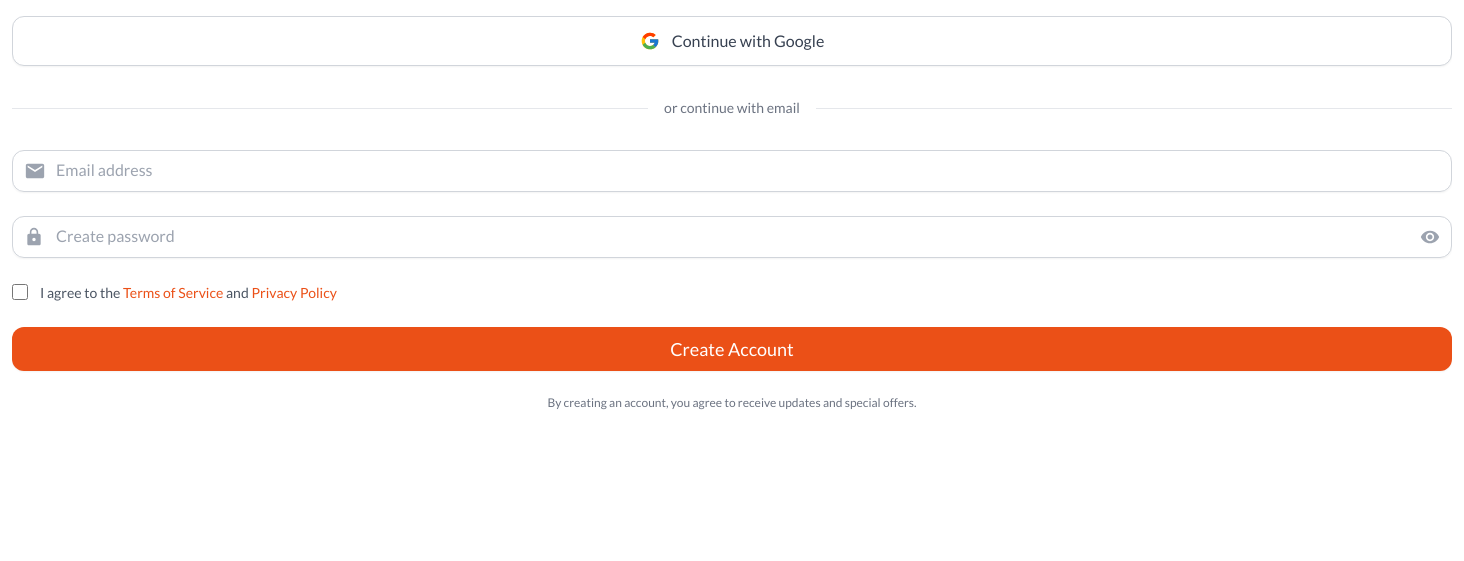
Test: RegisterForm › shows password feedback messages on typing
Type "short" into the password field labelled "Create password" at (732, 237), box [12,216,1452,258]
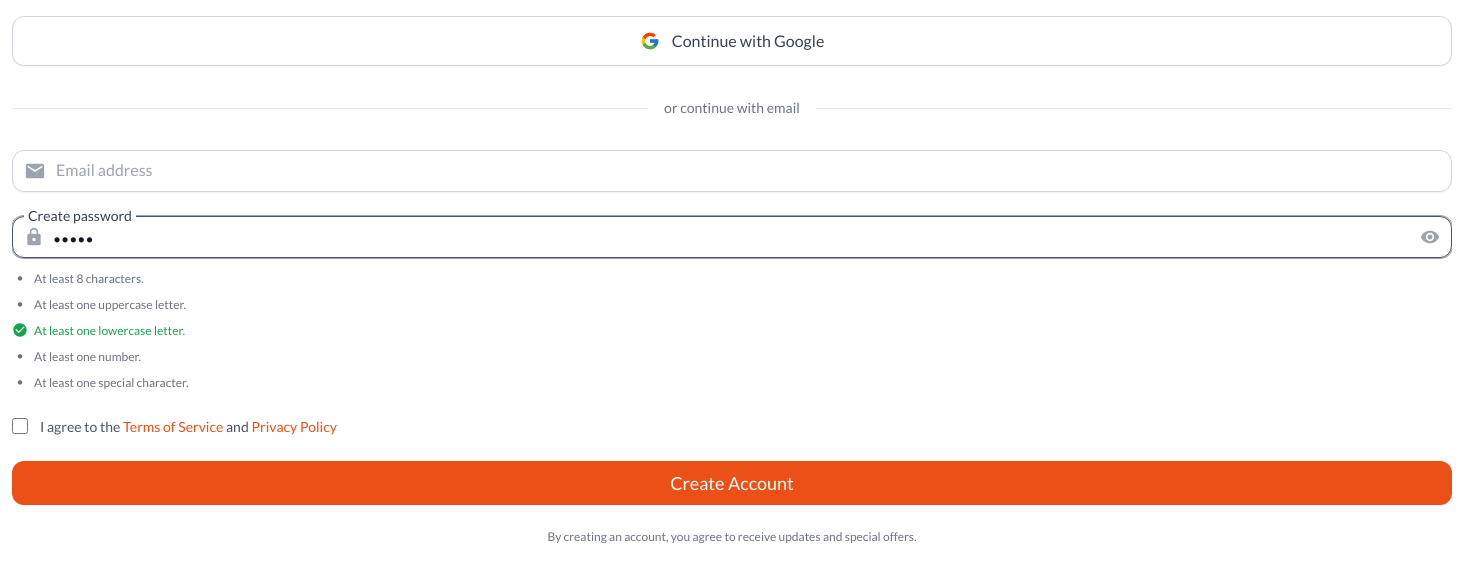
Now the text "At least 8 characters." is shown, box [34,270,144,288]
Now the text "At least one uppercase letter." is shown, box [34,296,186,314]
Now the text "At least one lowercase letter." is shown, box [34,322,185,340]
